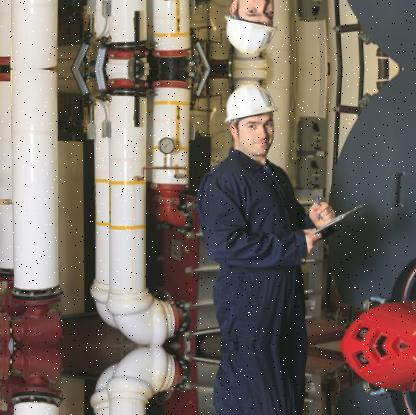helmet: (220, 75, 282, 160), (219, 0, 282, 62)
